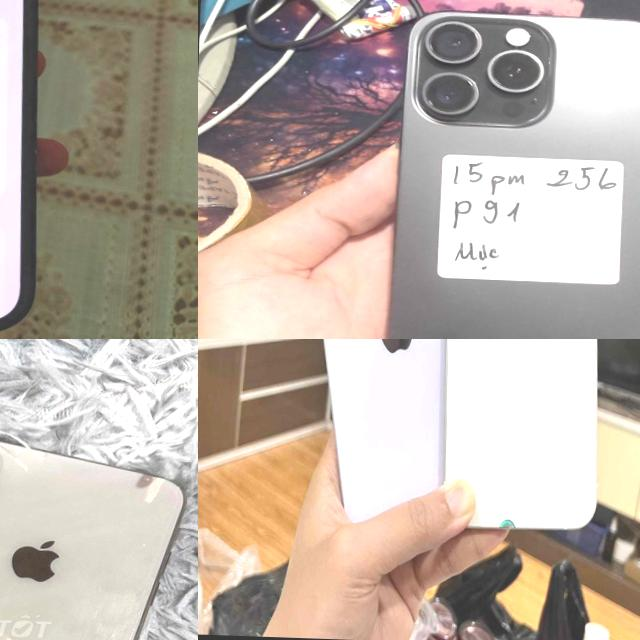gen_14: (432, 339, 615, 540), (0, 0, 63, 339)
gen_15: (371, 0, 640, 339)
gen_x_xs: (0, 440, 183, 640)
scratch: (136, 538, 150, 550)
